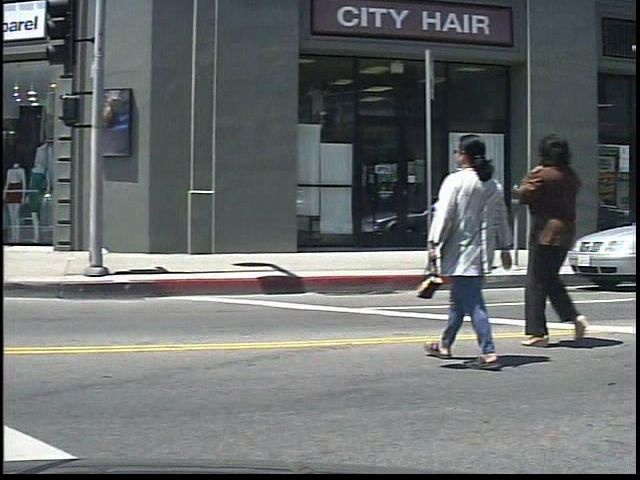person: (439, 121, 521, 371), (525, 125, 614, 353)
